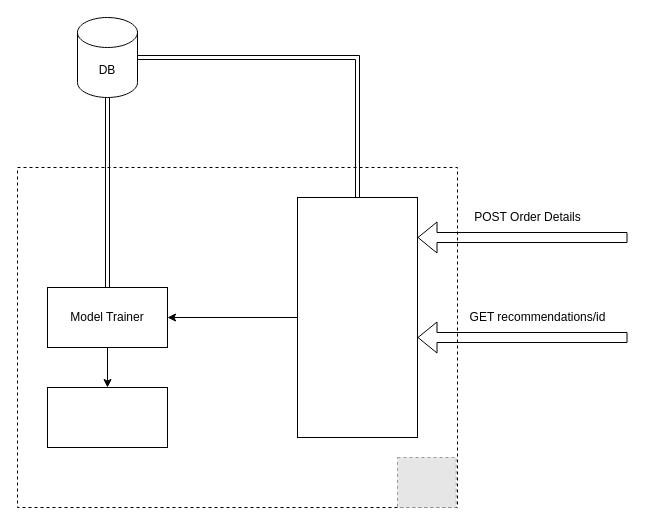
Image size: 645x525. Some labels were removed from this diagram. Grey dashed boxes stand in for pictures. Here are the shapes that lost their labels. From the top down, the box of each, then its label:
(296, 196, 418, 438): AutoRec API Server
(46, 386, 168, 448): Recommender inference Model
